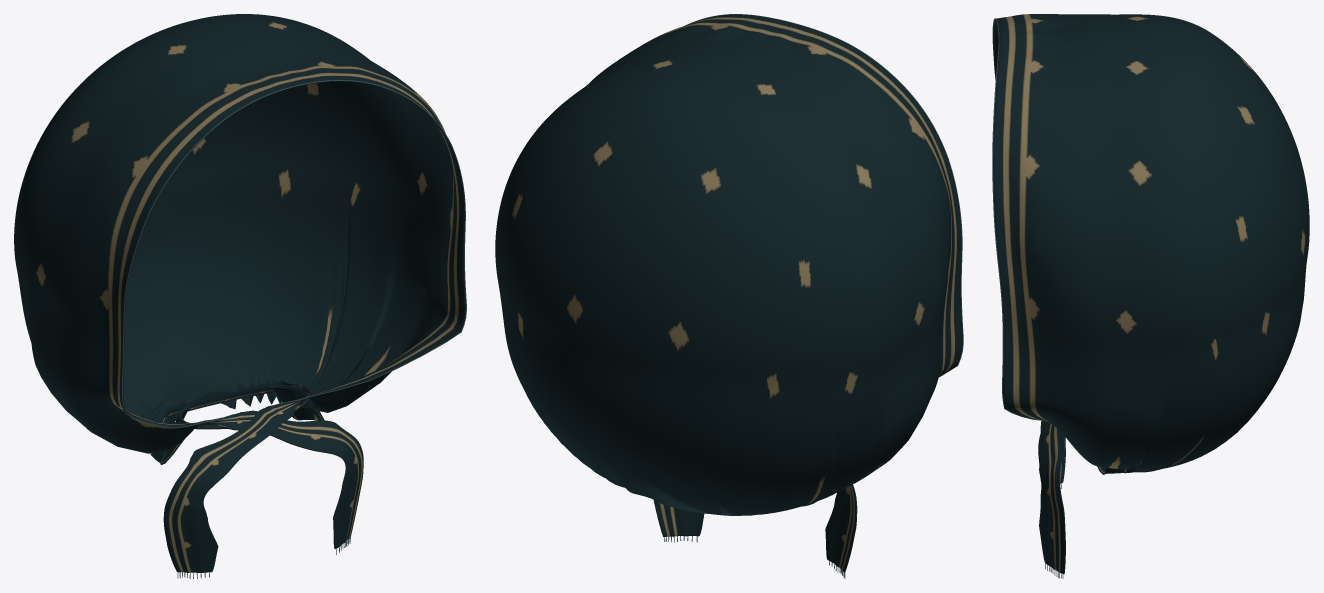
Rendered from Masculine-middle-part-shirtless-pashmina250-headgear.glb.
3 views of the same model, side by side, from view 1: azimuth 30°, elevation 25°; view 2: azimuth 150°, elevation 25°; view 3: azimuth 270°, elevation 25° (orthographic). The views are drawn at different scales.
Visible parts, largest first — view 1: 226 headgear / Headwear / continuous woven pashmina239, 226 headgear / Headwear / face edge239; view 2: 226 headgear / Headwear / continuous woven pashmina239, 226 headgear / Headwear / face edge239; view 3: 226 headgear / Headwear / continuous woven pashmina239, 226 headgear / Headwear / face edge239.
Boxes of the visible parts, left/top/right/bottom form: 226 headgear / Headwear / continuous woven pashmina239: left=14, top=14, right=465, bottom=572; 226 headgear / Headwear / face edge239: left=122, top=80, right=466, bottom=428; 226 headgear / Headwear / continuous woven pashmina239: left=495, top=14, right=962, bottom=572; 226 headgear / Headwear / face edge239: left=685, top=14, right=963, bottom=377; 226 headgear / Headwear / continuous woven pashmina239: left=993, top=14, right=1309, bottom=574; 226 headgear / Headwear / face edge239: left=992, top=18, right=1037, bottom=420.
Bounding box in the file's own units: 1.1 × 1.39 × 0.7949.
3 materials, 1 textured.
